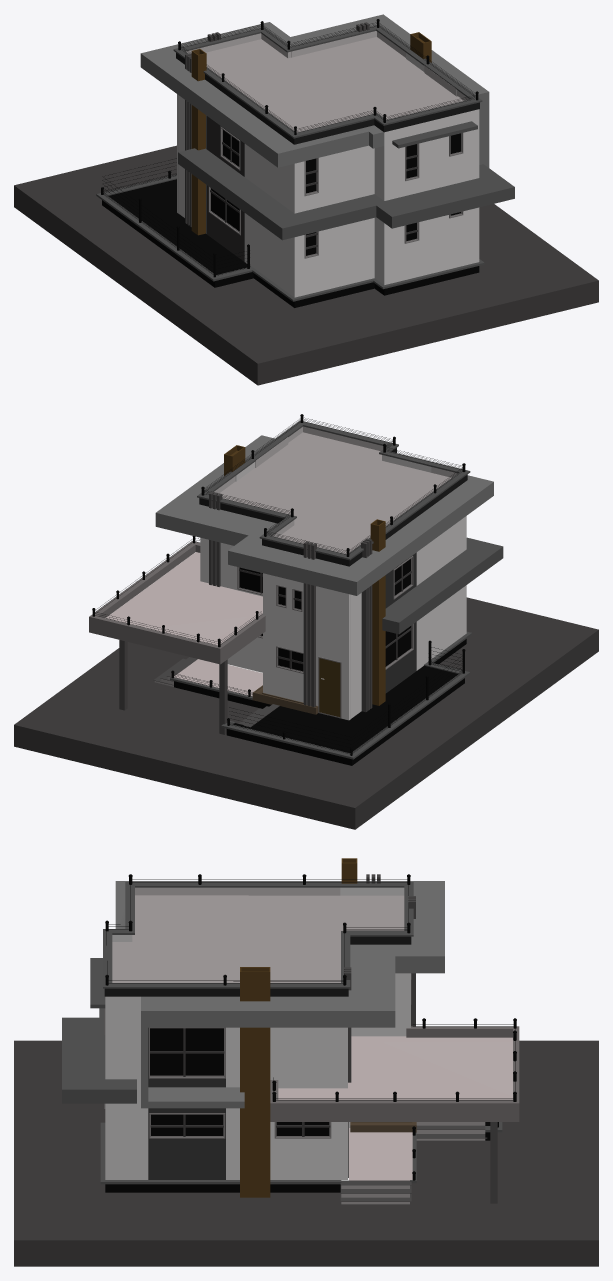
Rendered from zigurat-residence.glb.
The picture shows the model from 3 angles, top to bottom: view 1: azimuth 30°, elevation 25°; view 2: azimuth 150°, elevation 25°; view 3: azimuth 270°, elevation 25°; orthographic projection. The views are drawn at different scales.
Visible parts, largest first — view 1: Modern luxury villa; view 2: Modern luxury villa; view 3: Modern luxury villa.
Boxes of the visible parts, box(x1,y1,x2,y2) form: Modern luxury villa: box(14, 14, 598, 385); Modern luxury villa: box(14, 414, 598, 829); Modern luxury villa: box(14, 858, 598, 1266).
Bounding box in the file's own units: 21.12 × 12.5 × 26.14.
